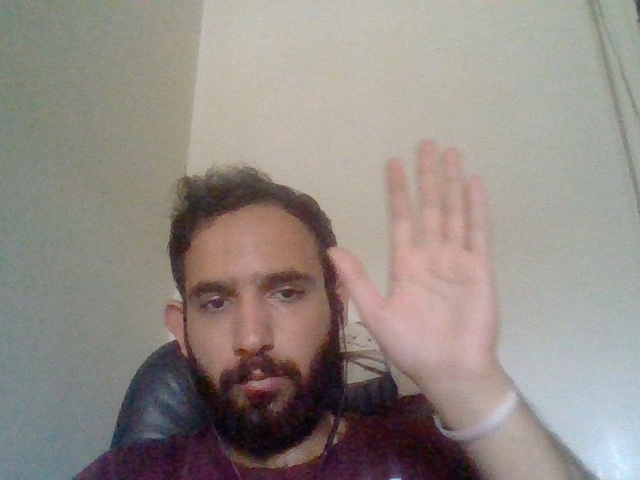Goodbye: (314, 129, 538, 408)
